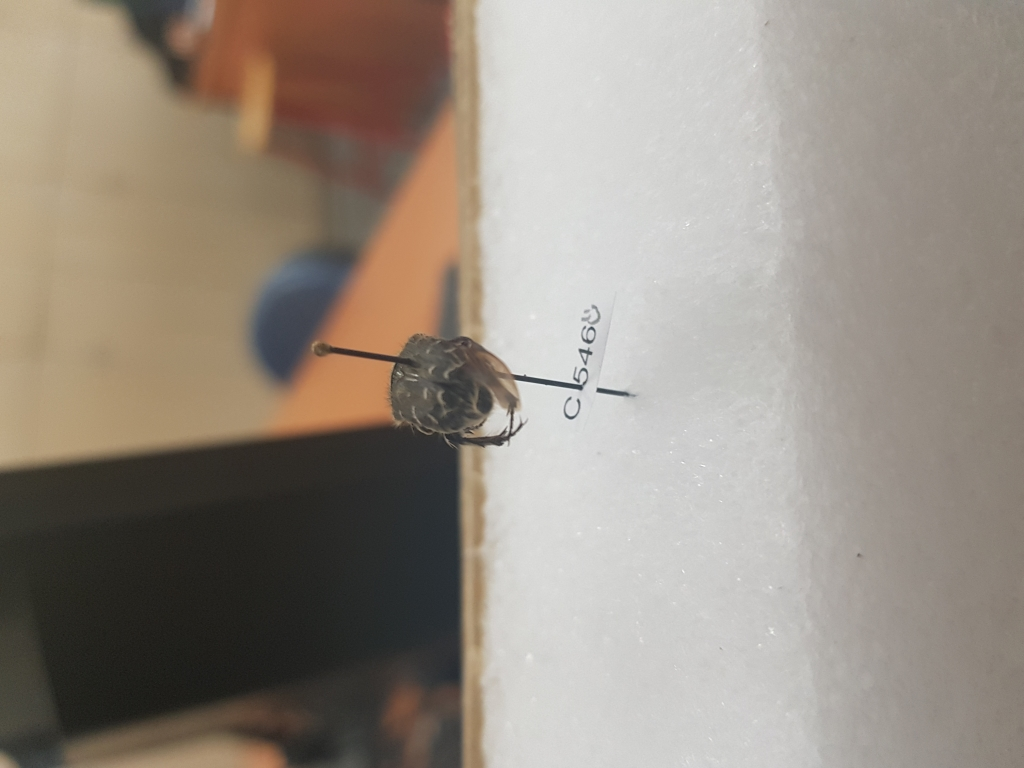Tropinota_senicula: (383, 323, 544, 456)
